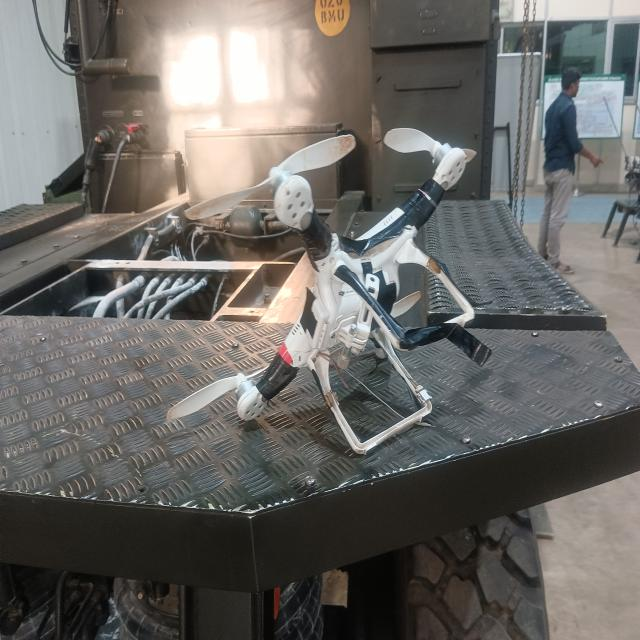drone: (137, 105, 514, 465)
